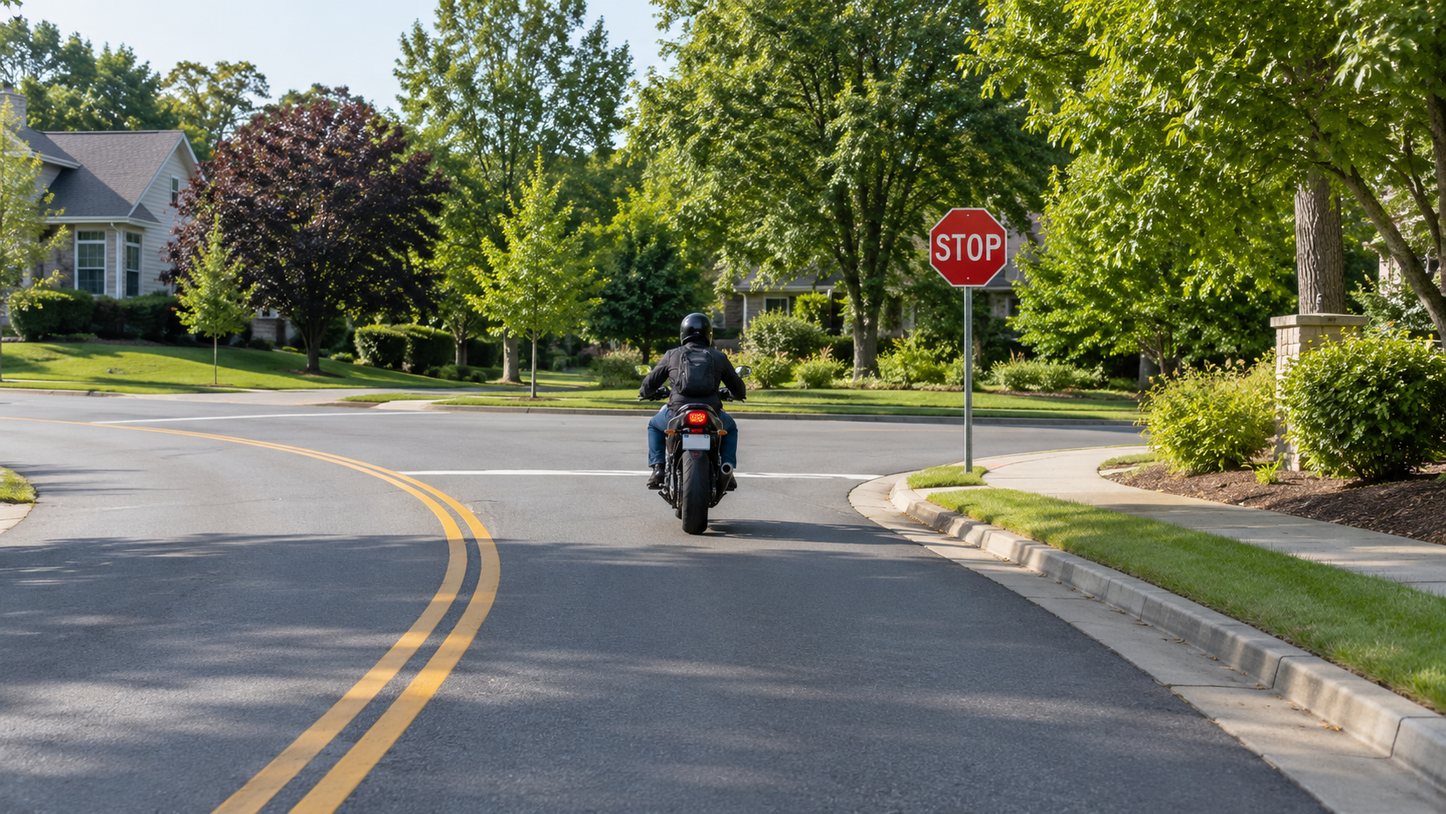motorcycle: (656, 379, 744, 535)
person: (638, 315, 746, 516)
stop_sign: (929, 209, 1005, 287)
